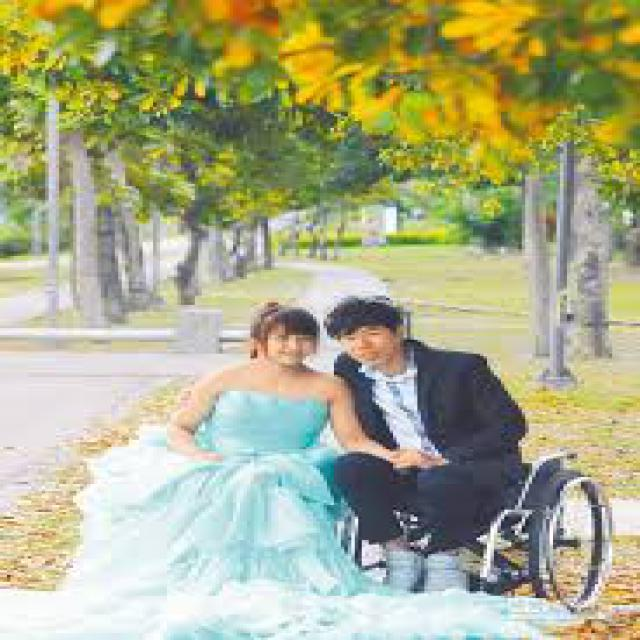wheelchairs: (320, 438, 612, 591)
